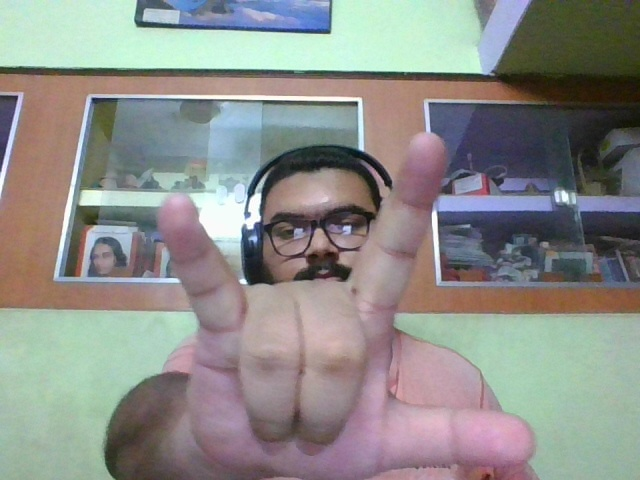hello: (157, 131, 538, 478)
